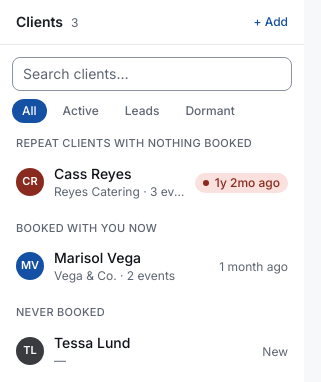
ClientQueueRail › the Dormant chip isolates the dormant-repeat group
Click the button "Dormant". click: (210, 111)
box: [175,99,245,123]
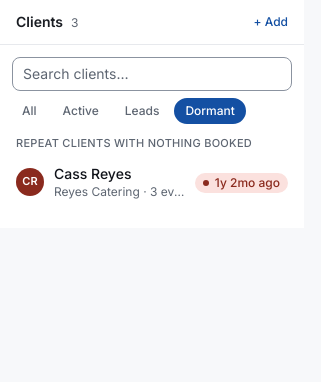
Expected: the text "Cass Reyes" is shown, [54,164,131,182]
Now the link "Marisol Vega" is gone
Now the link "Tessa Lund" is gone
